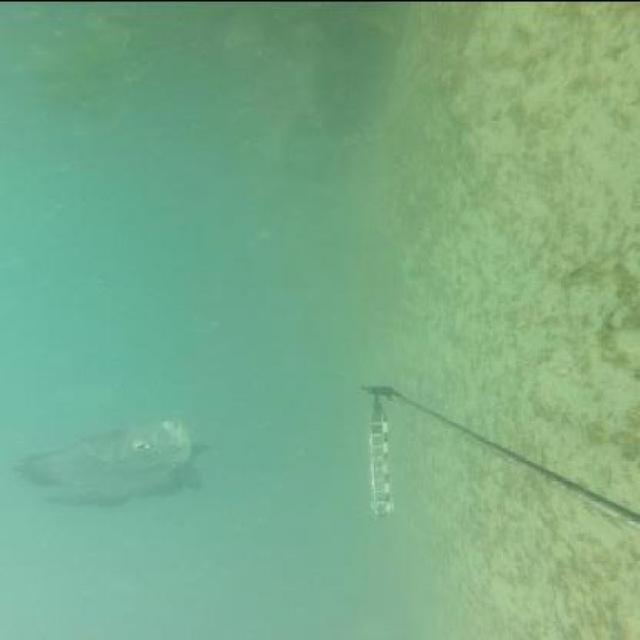acanthopagrus_palmaris: (15, 416, 220, 507)
